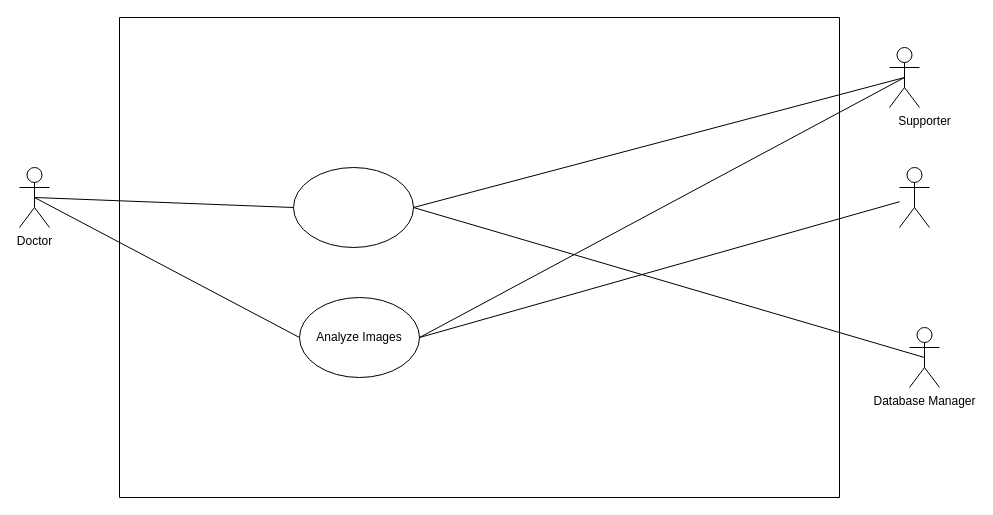
This 993x515 diagram has some shape labels left out. Here are the shapes that lost their labels. From the top down, the box of each, then its label:
(292, 166, 414, 248): Account Utilization
(898, 166, 930, 228): Models
